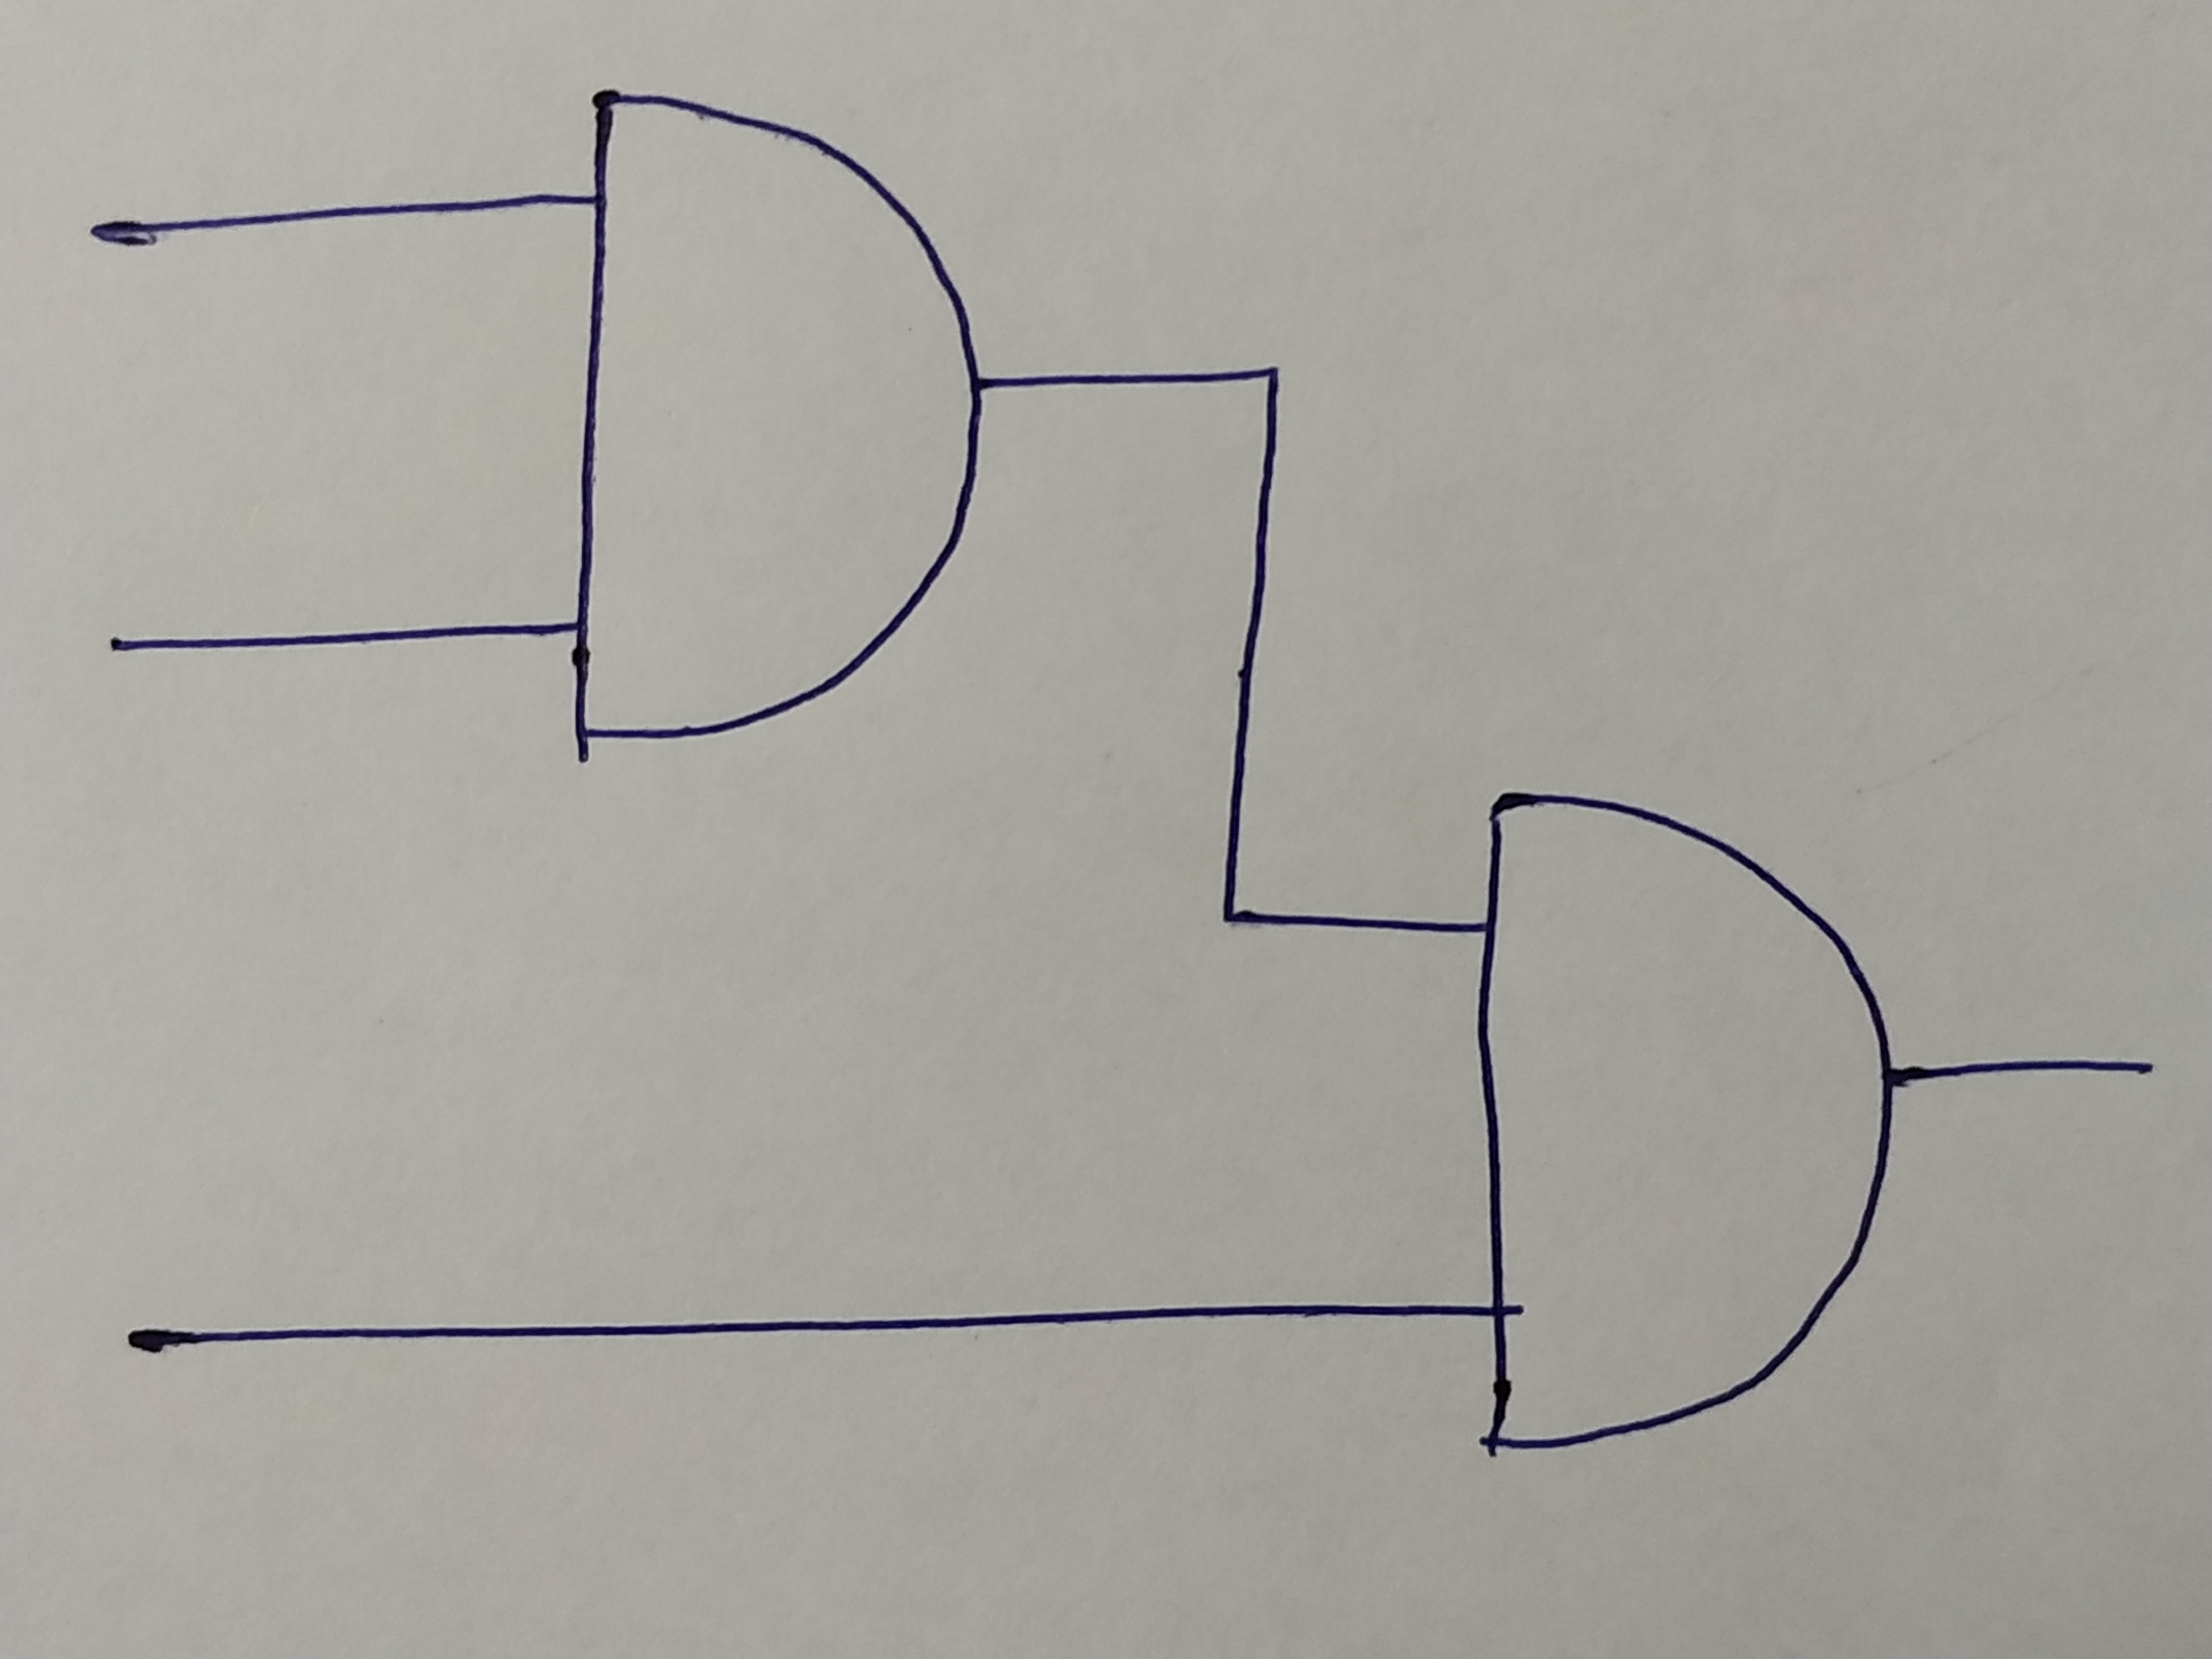and: (1484, 791, 1892, 1450), (571, 96, 974, 739)
